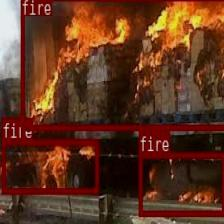fire: (19, 0, 224, 128), (138, 151, 224, 216), (1, 139, 97, 193)
